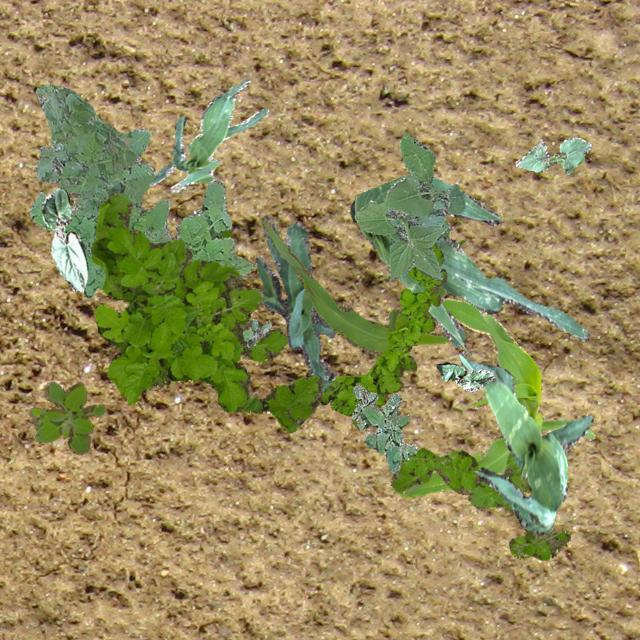crop: (350, 174, 588, 348), (394, 296, 594, 496), (258, 216, 466, 354), (458, 354, 592, 534), (254, 215, 334, 392), (148, 78, 268, 190), (40, 187, 86, 290), (219, 228, 249, 324), (514, 136, 590, 173), (436, 362, 494, 392)
weed: (90, 192, 322, 432), (28, 178, 254, 296), (34, 84, 178, 256), (320, 242, 446, 426), (390, 448, 570, 560), (354, 132, 464, 278), (351, 383, 416, 472), (28, 382, 104, 454), (242, 318, 270, 348)
